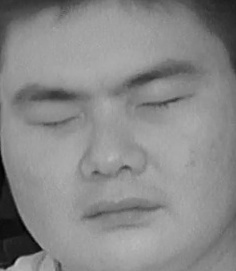blink: (25, 106, 84, 140), (135, 85, 185, 118)
mouth: (81, 186, 172, 234)
